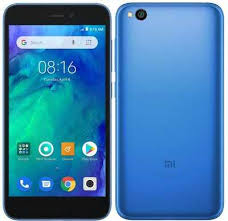mi: (112, 1, 225, 221)
